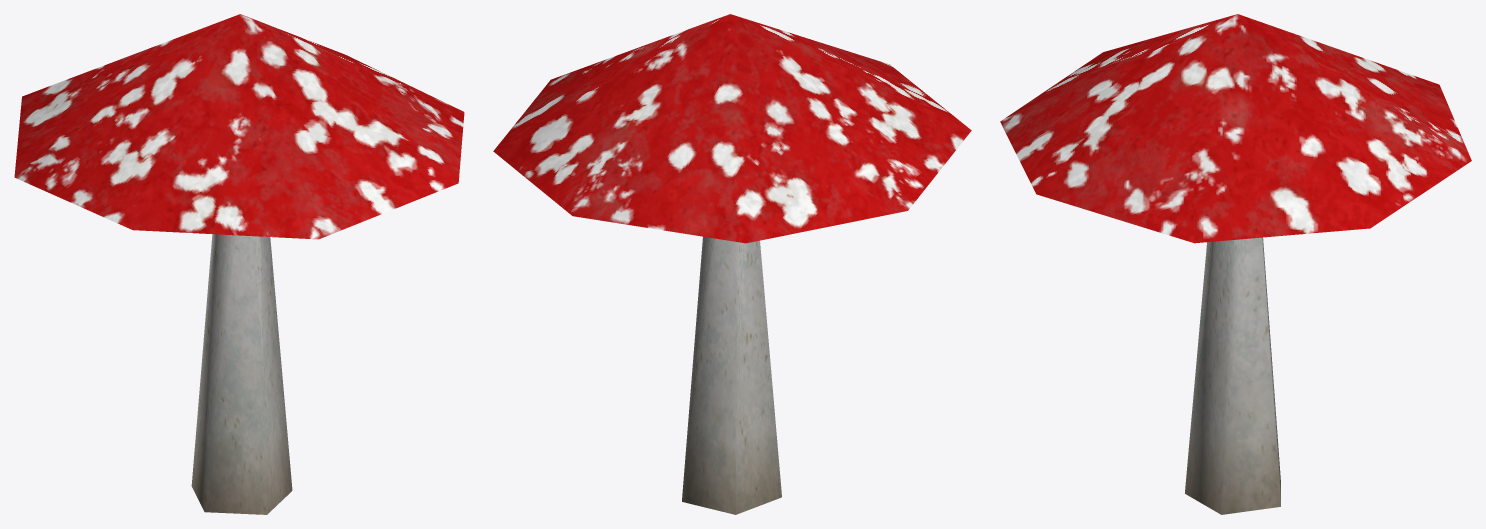
Rendered from Mushroom_01_LOD1.fbx.
The picture shows the model from 3 angles, left to right: view 1: azimuth 30°, elevation 25°; view 2: azimuth 150°, elevation 25°; view 3: azimuth 270°, elevation 25°; orthographic projection.
Parts seen in each view (by area): view 1: polySurface2; view 2: polySurface2; view 3: polySurface2.
Part boxes in pixels (box(x1,y1,x2,y2)): polySurface2: box(14, 14, 464, 514); polySurface2: box(493, 14, 971, 514); polySurface2: box(1000, 14, 1471, 514).
Bounding box in the file's own units: 26.58 × 30.22 × 26.94.
1 material, 1 textured.
